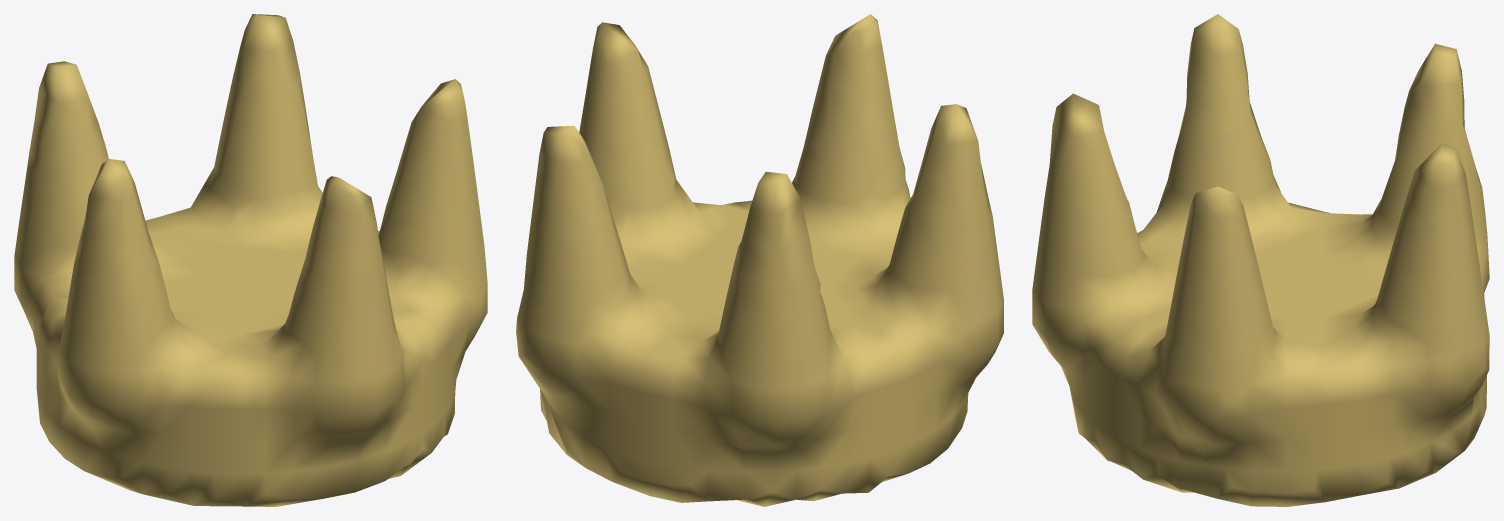
The model's file is orn_c01.glb.
3 renders of one model, left to right at view 1: azimuth 30°, elevation 25°; view 2: azimuth 150°, elevation 25°; view 3: azimuth 270°, elevation 25°, orthographic. The views are drawn at different scales.
Parts seen in each view (by area): view 1: orn_c01; view 2: orn_c01; view 3: orn_c01.
Part boxes in pixels (x1,y1,x2,y2): orn_c01: [14, 14, 487, 506]; orn_c01: [516, 14, 1003, 506]; orn_c01: [1032, 14, 1489, 506].
Size of the model in its own units: 5.94 by 4.6 by 5.7.
